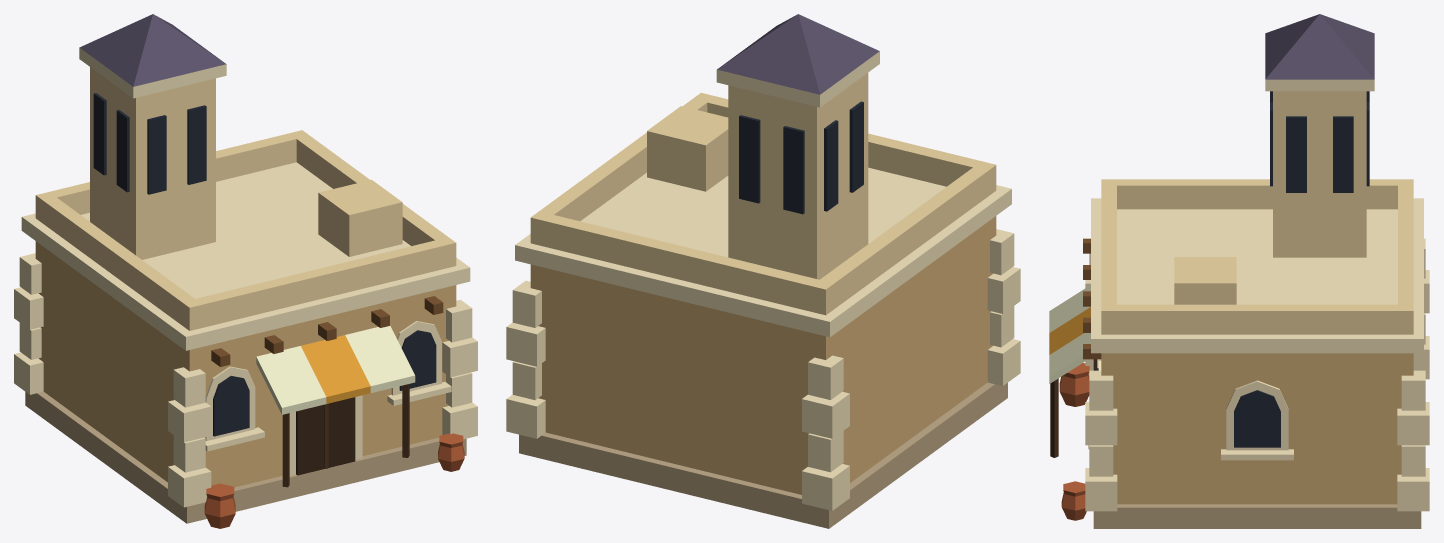
Rendered from house_09_wind_tower.fbx.
3 views of the same model, side by side, from view 1: azimuth 30°, elevation 25°; view 2: azimuth 150°, elevation 25°; view 3: azimuth 270°, elevation 25° (orthographic). The views are drawn at different scales.
Visible parts, largest first — view 1: house_09_wind_tower; view 2: house_09_wind_tower; view 3: house_09_wind_tower.
Part boxes in pixels (left/top/right/bottom): house_09_wind_tower: left=14, top=14, right=477, bottom=528; house_09_wind_tower: left=506, top=14, right=1020, bottom=528; house_09_wind_tower: left=1049, top=14, right=1429, bottom=528.
Size of the model in its own units: 6.62 by 8.8 by 7.31.
1 material, 1 textured.
